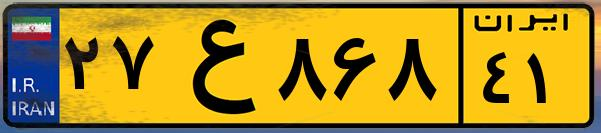1: (525, 38, 570, 115)
2: (57, 26, 110, 100)
4: (475, 38, 525, 113)
6: (330, 28, 385, 110)
7: (110, 28, 158, 98)
8: (270, 28, 330, 110), (385, 28, 445, 110)
ع: (158, 12, 270, 120)
